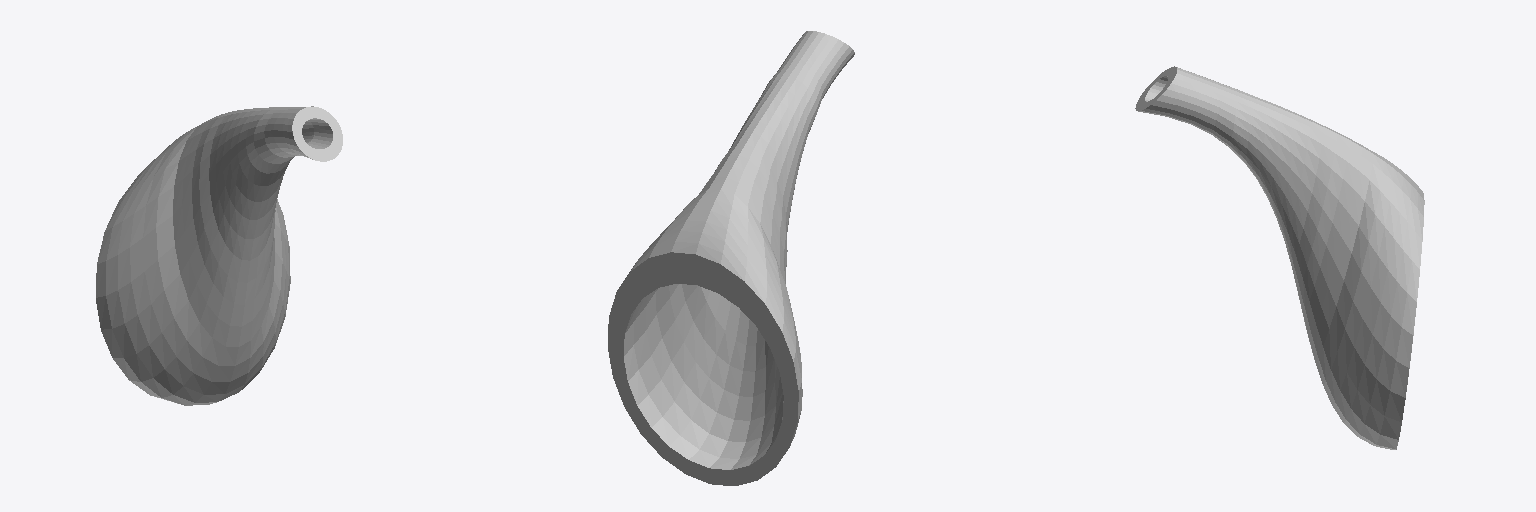
The model's file is original-4.obj.
3 views of the same model, side by side, from view 1: azimuth 30°, elevation 25°; view 2: azimuth 150°, elevation 25°; view 3: azimuth 270°, elevation 25° (orthographic).
Visible parts, largest first — view 1: Group4/mesh7/mesh7-geometry#mesh7-geometry; view 2: Group4/mesh7/mesh7-geometry#mesh7-geometry; view 3: Group4/mesh7/mesh7-geometry#mesh7-geometry.
Boxes of the visible parts, x1,y1,x2,y2 form: Group4/mesh7/mesh7-geometry#mesh7-geometry: [96, 106, 342, 405]; Group4/mesh7/mesh7-geometry#mesh7-geometry: [608, 31, 854, 485]; Group4/mesh7/mesh7-geometry#mesh7-geometry: [1135, 66, 1424, 449].
Bounding box in the file's own units: 0.2597 × 0.4836 × 0.3398.